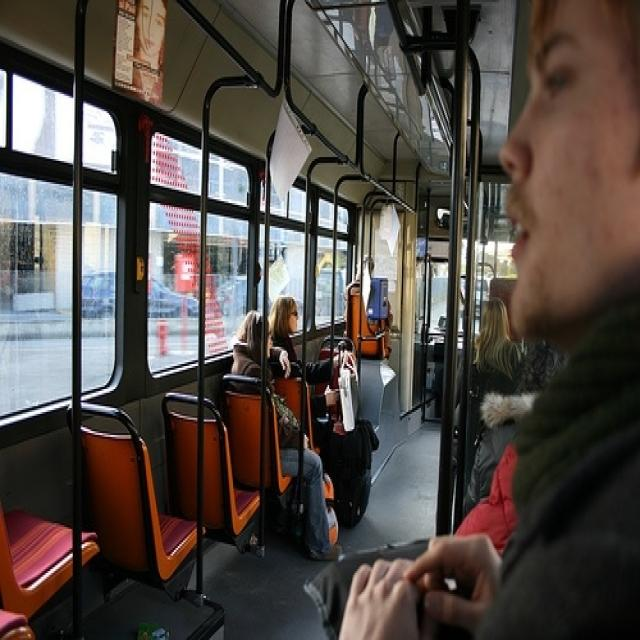Persona: (339, 0, 639, 638), (279, 408, 338, 558), (474, 297, 512, 368), (269, 295, 300, 374), (233, 310, 261, 377), (306, 360, 334, 418), (266, 341, 288, 377)
